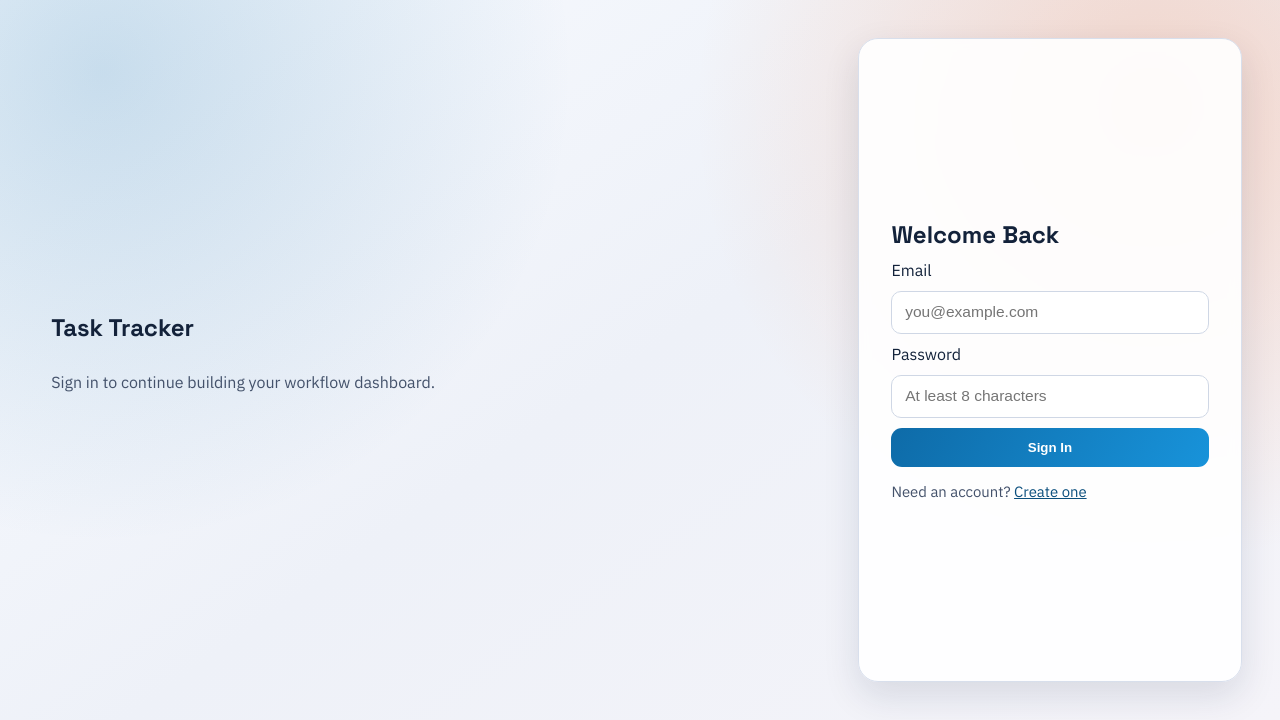
Scenario: LoginPage › shows an error message when login fails
The image size is (1280, 720).
Type "user@example.com" into the field labelled "Email" at (1050, 312), box [891, 291, 1209, 334]
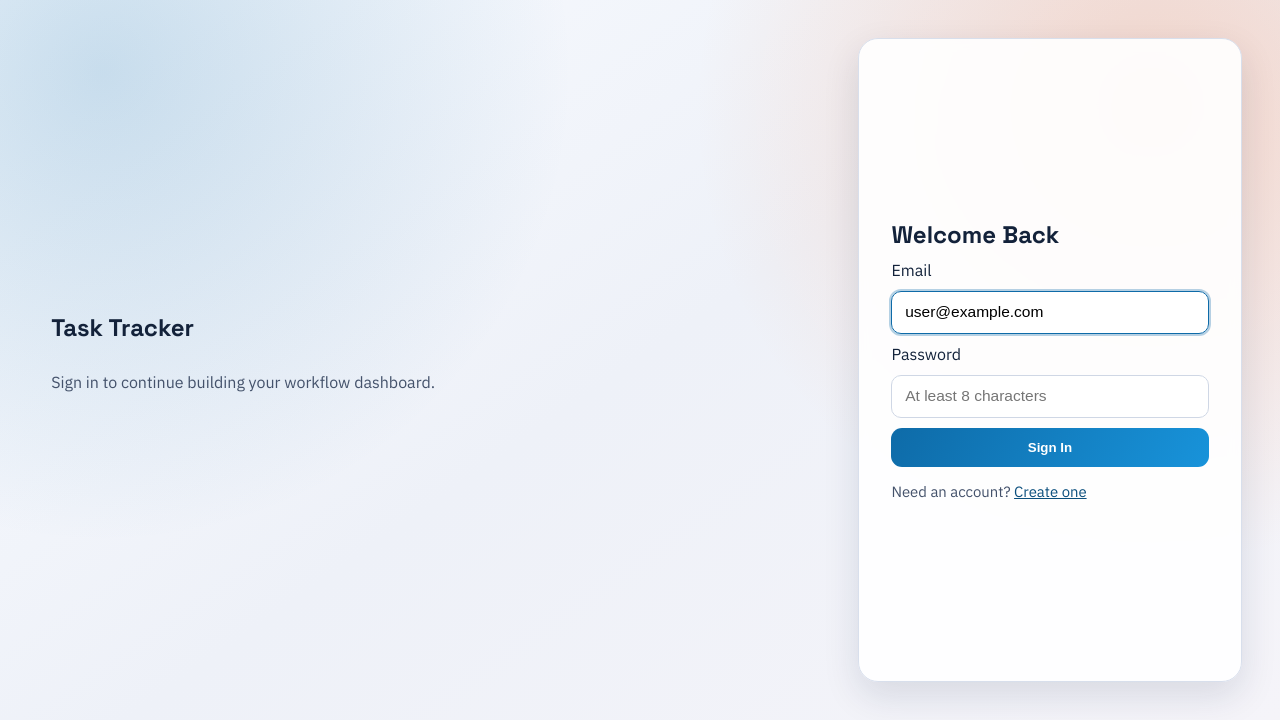
Type "Password123!" into the password field labelled "Password" at (1050, 396), box [891, 375, 1209, 418]
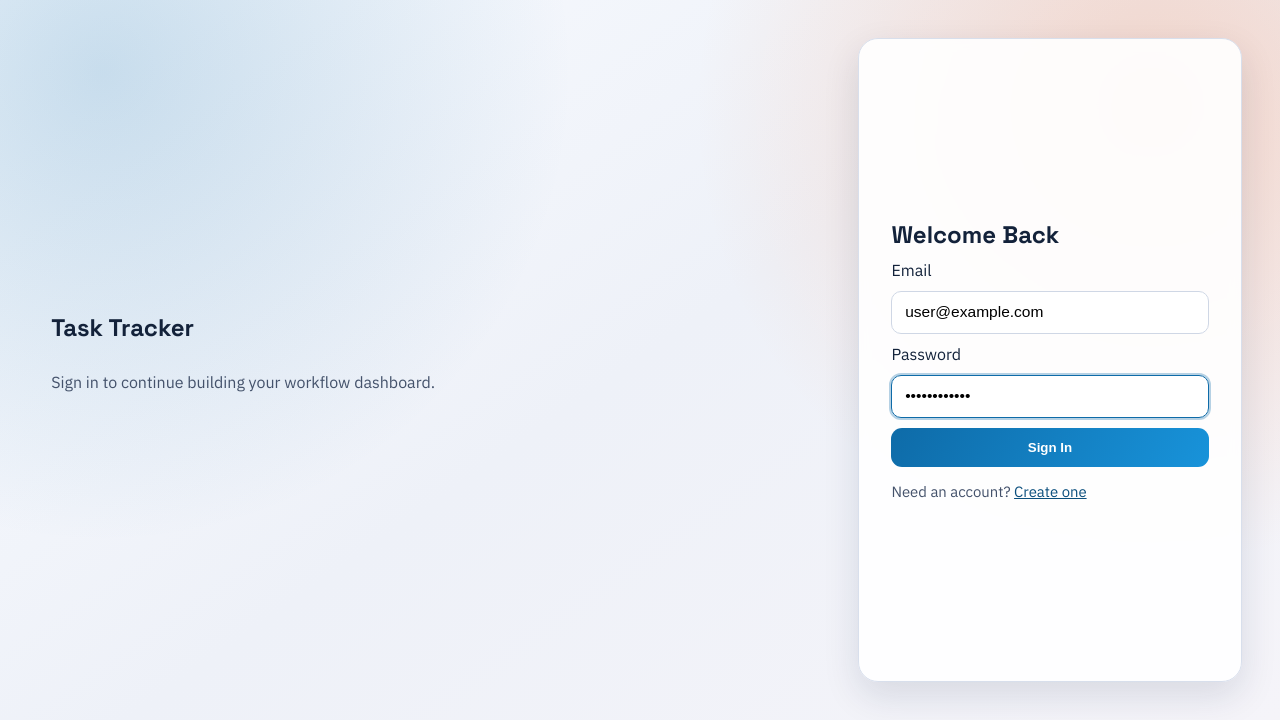
Click the button "Sign In" at (1050, 447), box [891, 428, 1209, 467]
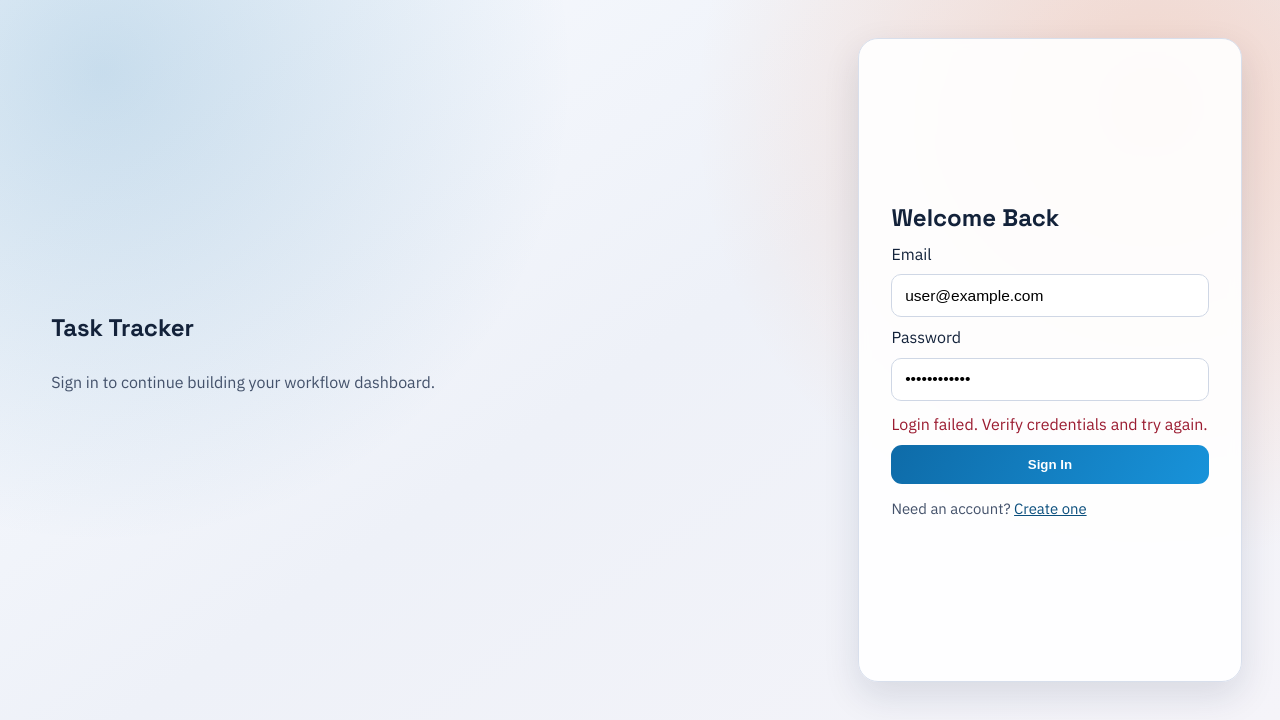
Expected: the text "Login failed. Verify credentials and try again." is shown, [891, 414, 1209, 434]
